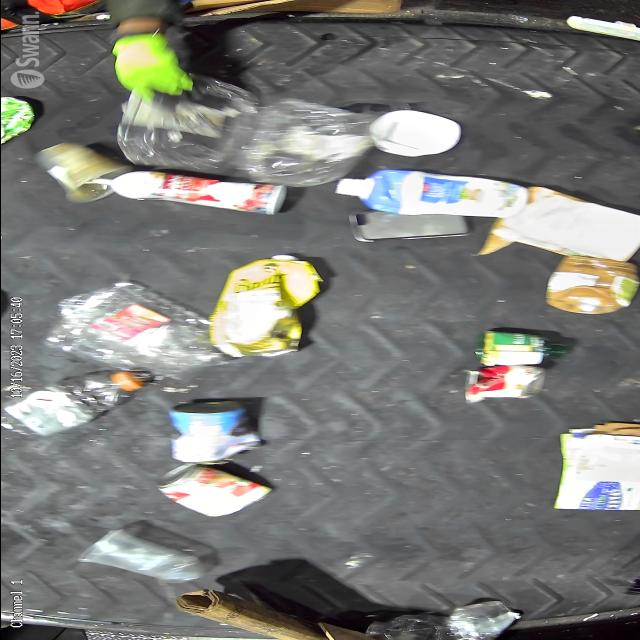can: (155, 468, 269, 520), (162, 403, 262, 458), (454, 364, 538, 404), (476, 328, 552, 364)
non_white_jug: (204, 254, 318, 358)
plastic_bottle: (49, 286, 192, 361), (0, 370, 140, 439), (360, 603, 520, 640)
